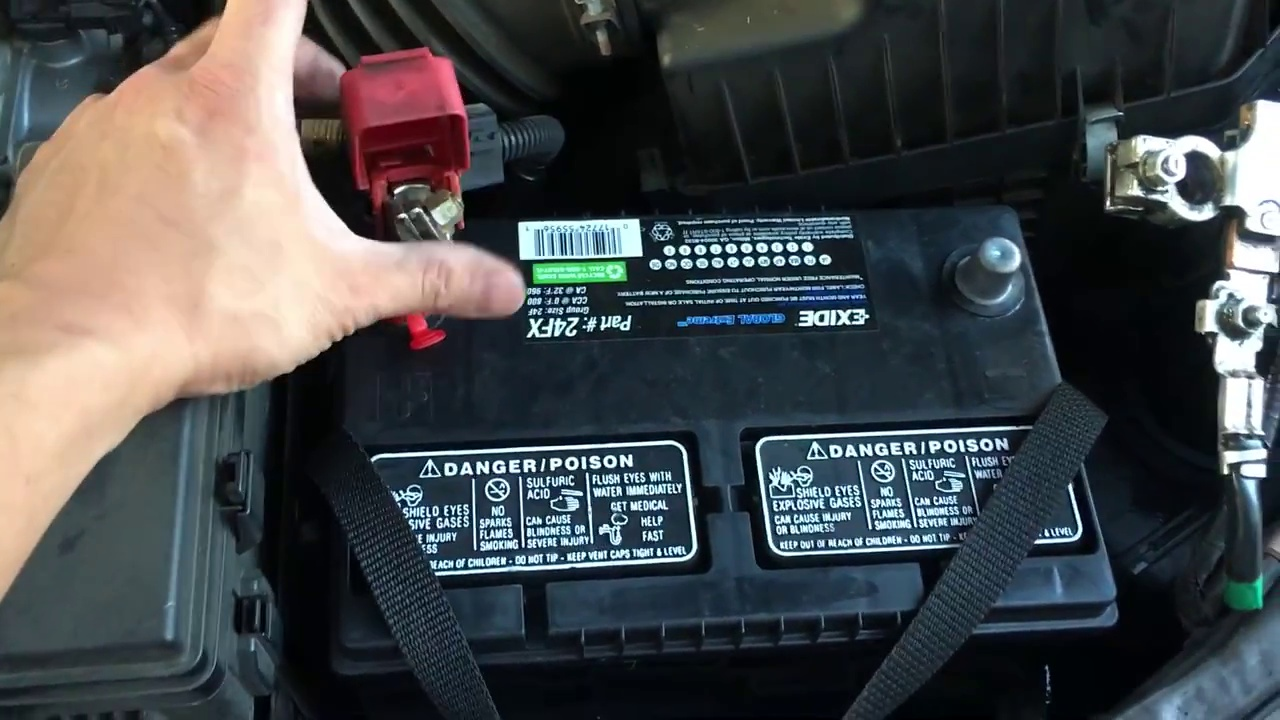battery: (337, 182, 1124, 631)
neg_disconnected: (940, 216, 1060, 333)
pos_touched: (270, 44, 540, 312)
